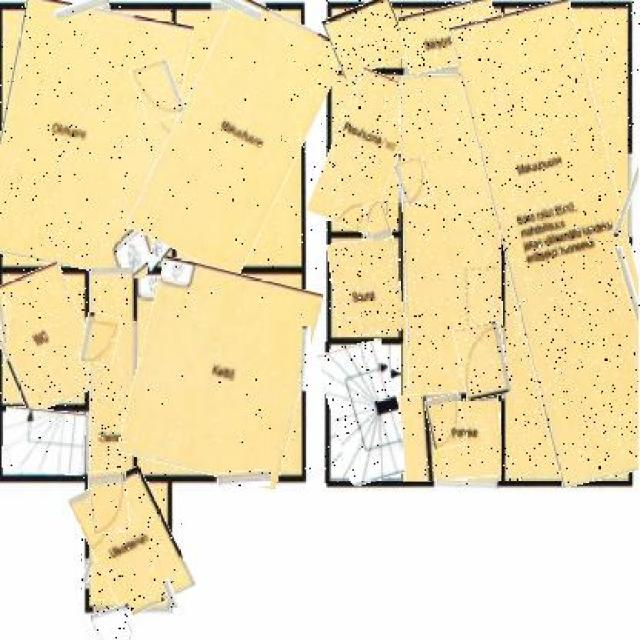door: (457, 323, 508, 399), (134, 60, 181, 120), (91, 471, 131, 532), (426, 394, 466, 448), (80, 314, 120, 364), (397, 160, 431, 206), (92, 606, 136, 640), (364, 200, 390, 242)
window: (620, 152, 640, 238), (620, 246, 640, 329), (217, 471, 271, 489), (54, 0, 109, 14), (212, 0, 262, 14), (436, 480, 498, 491), (302, 326, 310, 391), (0, 289, 6, 343), (167, 578, 176, 608), (83, 559, 91, 583)
zone: (477, 2, 640, 483), (0, 0, 181, 272), (152, 0, 324, 272), (128, 264, 312, 482), (402, 74, 502, 392), (318, 71, 411, 231), (80, 472, 183, 614), (0, 266, 95, 407), (326, 342, 409, 483), (89, 270, 134, 476), (402, 391, 502, 480), (329, 238, 402, 336), (400, 2, 502, 69), (324, 0, 406, 72), (3, 409, 86, 474)
